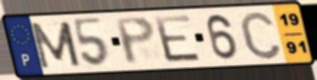5: (70, 16, 113, 70)
6: (204, 12, 240, 62)
C: (237, 9, 284, 61)
E: (152, 13, 205, 65)
M: (27, 20, 84, 70)
P: (112, 15, 157, 67)
